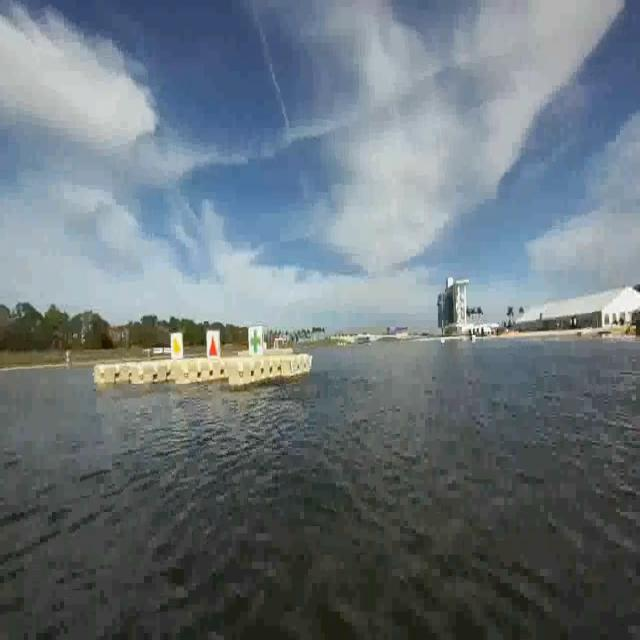blue-cross: (248, 326, 261, 357)
red-dot: (208, 332, 220, 360)
yellow-duck: (170, 335, 184, 363)
